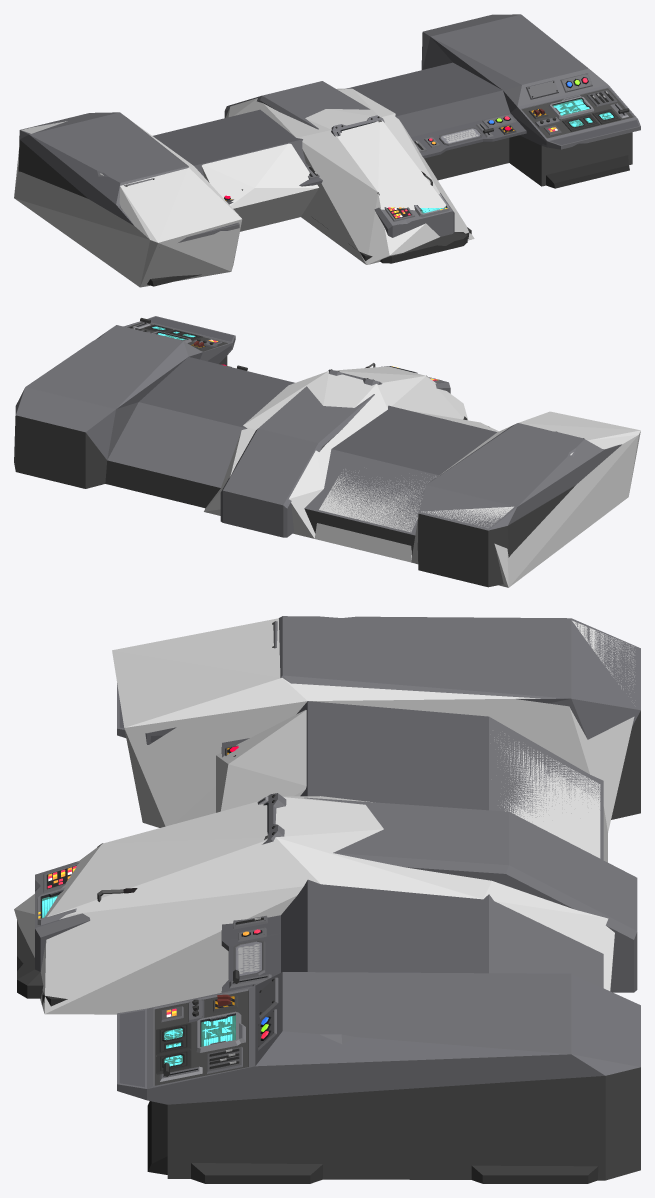
Rendered from SM_Bld_Bridge_Console_02.fbx.
3 renders of one model, top to bottom at view 1: azimuth 30°, elevation 25°; view 2: azimuth 150°, elevation 25°; view 3: azimuth 270°, elevation 25°, orthographic. The views are drawn at different scales.
Parts seen in each view (by area): view 1: SM_Bld_Bridge_Console_02_LOD0, SM_Bld_Bridge_Console_02_ConvexHulls; view 2: SM_Bld_Bridge_Console_02_LOD0, SM_Bld_Bridge_Console_02_ConvexHulls; view 3: SM_Bld_Bridge_Console_02_LOD0, SM_Bld_Bridge_Console_02_ConvexHulls.
Boxes of the visible parts, x1,y1,x2,y2 form: SM_Bld_Bridge_Console_02_LOD0: [18, 14, 640, 286]; SM_Bld_Bridge_Console_02_ConvexHulls: [14, 88, 474, 287]; SM_Bld_Bridge_Console_02_LOD0: [14, 316, 621, 587]; SM_Bld_Bridge_Console_02_ConvexHulls: [204, 366, 640, 587]; SM_Bld_Bridge_Console_02_LOD0: [17, 616, 640, 1183]; SM_Bld_Bridge_Console_02_ConvexHulls: [14, 618, 635, 1014].
Size of the model in its own units: 489 by 820 by 132.
1 material, 1 textured.
